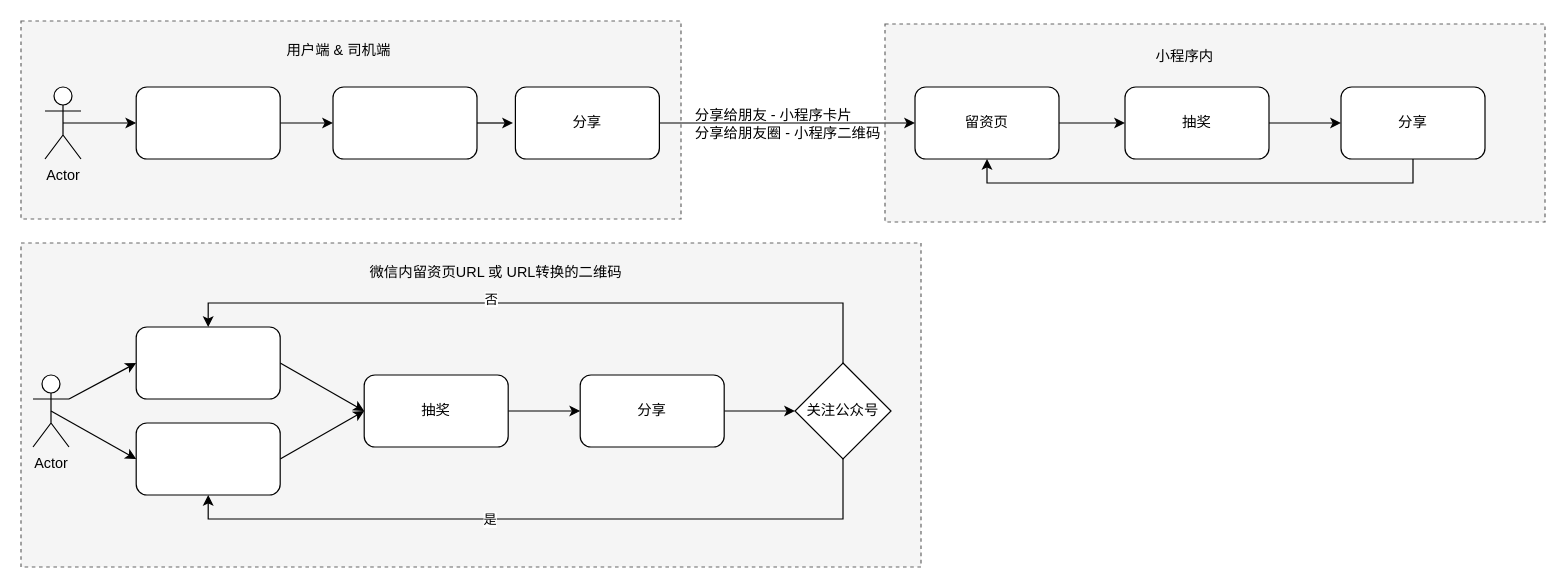
Some shapes in this 1566 by 588 pixel diagram are drawn without their labels. The shapes that lost their labels are listed below. From the top down, each one's box as (x1, y1, x2, y2) in pixels, then its label:
(135, 86, 280, 159): 留资
(332, 86, 477, 159): 抽奖页
(135, 326, 280, 399): 留资页URL
(135, 422, 280, 495): 留资页卡片
